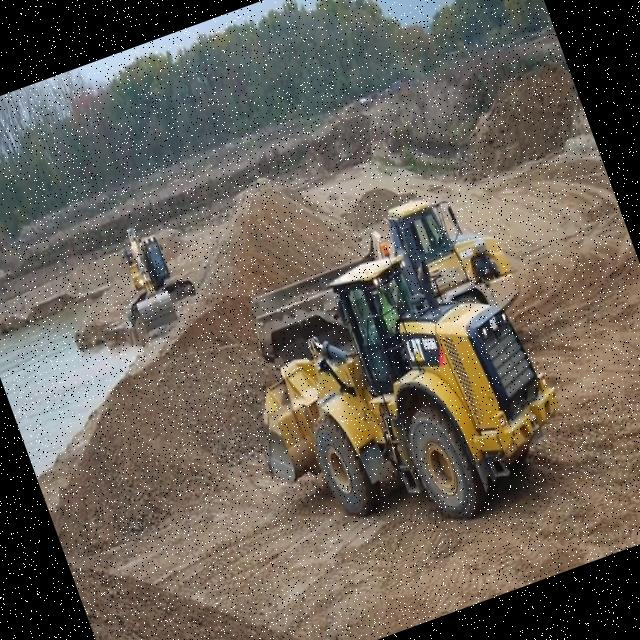Dump Truck: (228, 172, 514, 368)
Excavator: (98, 208, 208, 344)
Loader: (205, 212, 586, 578)
